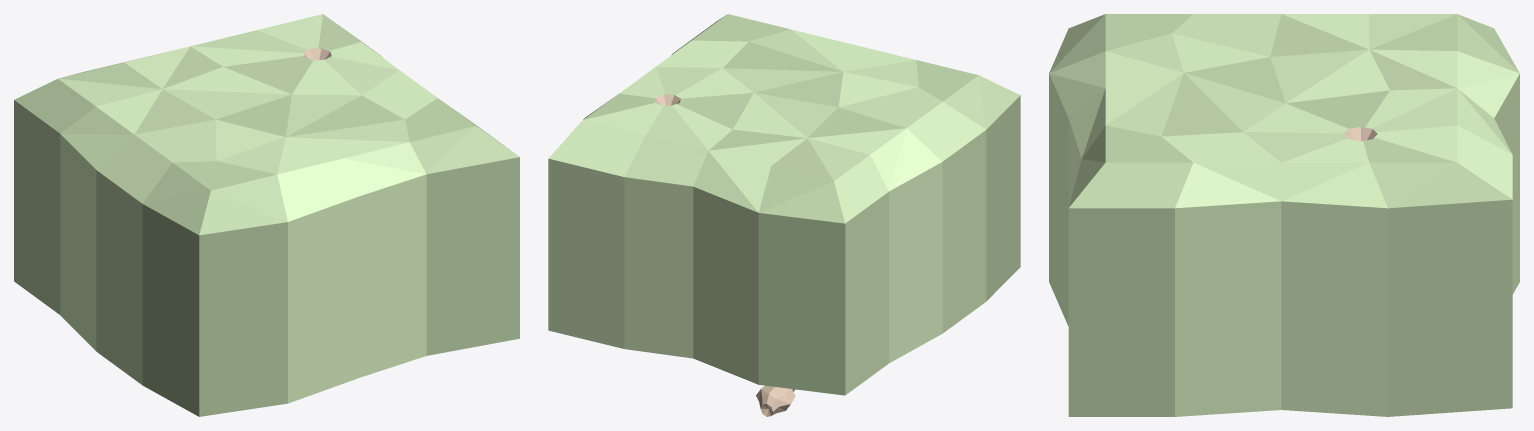
File: Well.fbx
3 views of the same model, side by side, from view 1: azimuth 30°, elevation 25°; view 2: azimuth 150°, elevation 25°; view 3: azimuth 270°, elevation 25° (orthographic). The views are drawn at different scales.
Visible parts, largest first — view 1: Well; view 2: Well; view 3: Well.
Boxes of the visible parts, bbox=[...] form: Well: bbox=[14, 14, 519, 416]; Well: bbox=[548, 14, 1020, 416]; Well: bbox=[1049, 14, 1519, 416].
Bounding box in the file's own units: 62.42 × 52.68 × 66.93.
